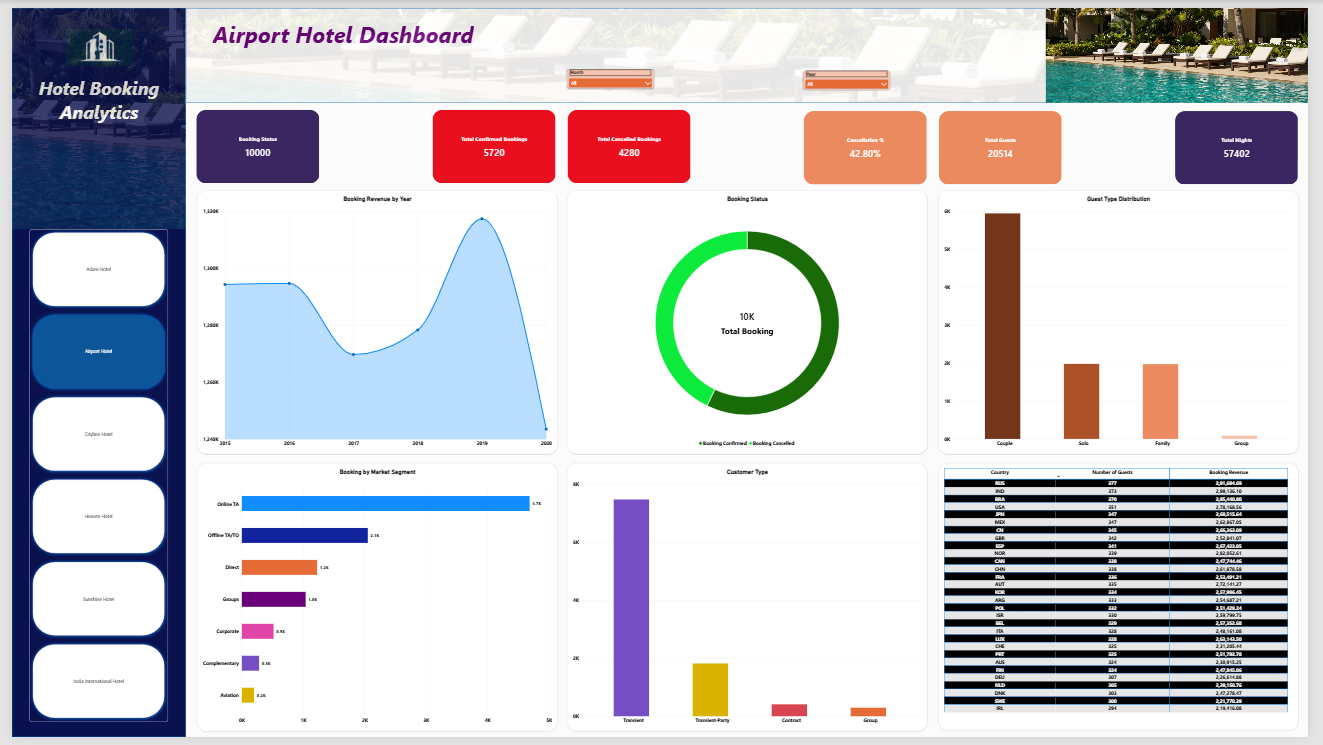

The dashboard page shown, as its layout file describes it:
{"tool":"powerbi","page":{"name":"Airport Hotel","canvas":[3840,2160],"ordinal":1},"visuals":[{"type":"shape","box":[0,0,515,2160],"z":0},{"type":"image","box":[158,62,200,107],"z":1000},{"type":"shape","box":[515,0,3325,281.2],"z":2000},{"type":"image","box":[3061.5,0,776.9,280.8],"z":3000},{"type":"image","box":[515.4,0,2546.2,280.8],"z":4000},{"type":"donutChart","title":"Booking  Status ","fields":{"Category":["Airport_Hotel.Booking Status"],"Y":["CountNonNull(Airport_Hotel.Booking Status)"]},"box":[1643.9,539,1068.3,780.5],"z":5000},{"type":"barChart","title":"Booking by Market Segment ","fields":{"Category":["Airport_Hotel.market_segment"],"Y":["CountNonNull(Airport_Hotel.market_segment)"]},"box":[546.3,1346.3,1069,794.8],"z":6000},{"type":"clusteredColumnChart","title":"Guest  Type  Distribution","fields":{"Category":["Airport_Hotel.Guest Type"],"Y":["CountNonNull(Airport_Hotel.Guest Type)"]},"box":[2744.1,539.7,1067.6,780.9],"z":7000},{"type":"stackedAreaChart","title":"Booking  Revenue by Year","fields":{"Category":["Airport_Hotel.Year"],"Y":["Sum(Airport_Hotel.Booking Revenue)"]},"box":[546.3,539,1069,781],"z":8000},{"type":"cardVisual","title":"Total Bookings","fields":{"Data":["Airport_Hotel.Total  Booking"]},"box":[1246,300,367.5,220],"z":9000},{"type":"cardVisual","title":"Total Bookings","fields":{"Data":["Airport_Hotel.Total  Nights"]},"box":[3444,302,367.5,220],"z":10000},{"type":"cardVisual","title":"Total Bookings","fields":{"Data":["Airport_Hotel.Total cancelled Booking"]},"box":[1644,300,367.5,220],"z":11000},{"type":"cardVisual","title":"Total Bookings","fields":{"Data":["Airport_Hotel.Cancellation  %"]},"box":[2344,302,367.5,220],"z":13000},{"type":"image","box":[0,0,515,655],"z":14000},{"type":"pageNavigator","box":[53.3,656.7,410,1460],"z":15000},{"type":"slicer","fields":{"Values":["Airport_Hotel.Year"]},"box":[2344.1,183.8,257.8,57.8],"z":16000},{"type":"slicer","fields":{"Values":["Airport_Hotel.Month"]},"box":[1644.1,182.4,257.5,57.5],"z":17000},{"type":"clusteredColumnChart","title":"Customer Type","fields":{"Category":["Airport_Hotel.customer_type"],"Y":["CountNonNull(Airport_Hotel.customer_type)"]},"box":[1644.1,1347.1,1068.3,795.1],"z":18000},{"type":"tableEx","fields":{"Values":["Airport_Hotel.country","CountNonNull(Airport_Hotel.country)","Sum(Airport_Hotel.Booking Revenue)"]},"box":[2745,1347.5,1067.5,792.5],"z":19000},{"type":"cardVisual","title":"Total Bookings","fields":{"Data":["CountNonNull(Airport_Hotel.Booking Status)"]},"box":[546,300,367.5,220],"z":19001},{"type":"cardVisual","title":"Total Bookings","fields":{"Data":["Airport_Hotel.Total  Guests"]},"box":[2744,302,367.5,220],"z":19002}]}

Visuals, with their boxes in screenshot pixels (x1, y1, x2, y2), scaled from the page's 3840x2160 canvas onto the 1323x745 screenshot:
shape: left=0, top=0, right=177, bottom=744
image: left=54, top=21, right=123, bottom=58
shape: left=177, top=0, right=1322, bottom=97
image: left=1055, top=0, right=1322, bottom=97
image: left=178, top=0, right=1055, bottom=97
"Booking  Status " donutChart: left=566, top=186, right=934, bottom=455
"Booking by Market Segment " barChart: left=188, top=464, right=557, bottom=738
"Guest  Type  Distribution" clusteredColumnChart: left=945, top=186, right=1313, bottom=455
"Booking  Revenue by Year" stackedAreaChart: left=188, top=186, right=557, bottom=455
"Total Bookings" cardVisual: left=429, top=103, right=556, bottom=179
"Total Bookings" cardVisual: left=1187, top=104, right=1313, bottom=180
"Total Bookings" cardVisual: left=566, top=103, right=693, bottom=179
"Total Bookings" cardVisual: left=808, top=104, right=934, bottom=180
image: left=0, top=0, right=177, bottom=226
pageNavigator: left=18, top=227, right=160, bottom=730
slicer - Airport_Hotel.Year: left=808, top=63, right=896, bottom=83
slicer - Airport_Hotel.Month: left=566, top=63, right=655, bottom=83
"Customer Type" clusteredColumnChart: left=566, top=465, right=935, bottom=739
tableEx - Airport_Hotel.country x CountNonNull(Airport_Hotel.country): left=946, top=465, right=1314, bottom=738
"Total Bookings" cardVisual: left=188, top=103, right=315, bottom=179
"Total Bookings" cardVisual: left=945, top=104, right=1072, bottom=180
